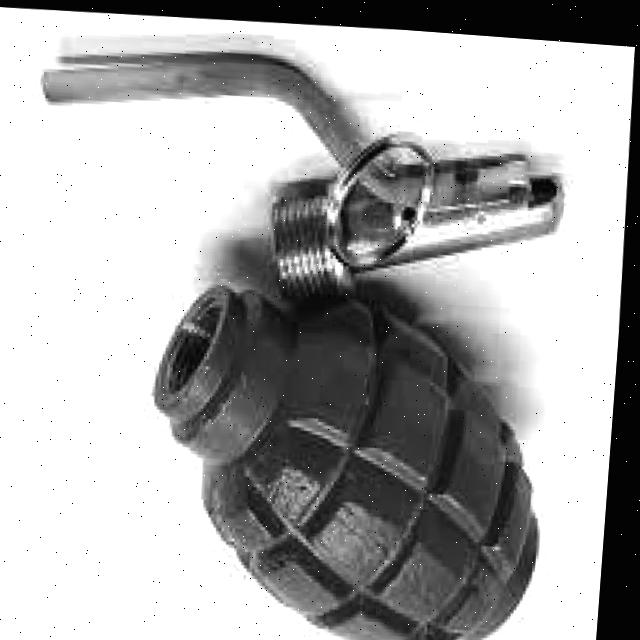grenade: (138, 269, 567, 640)
